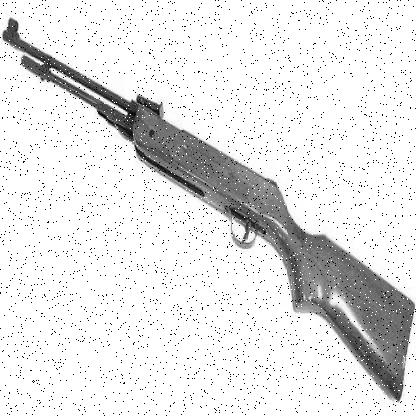rifle: (1, 7, 408, 403)
